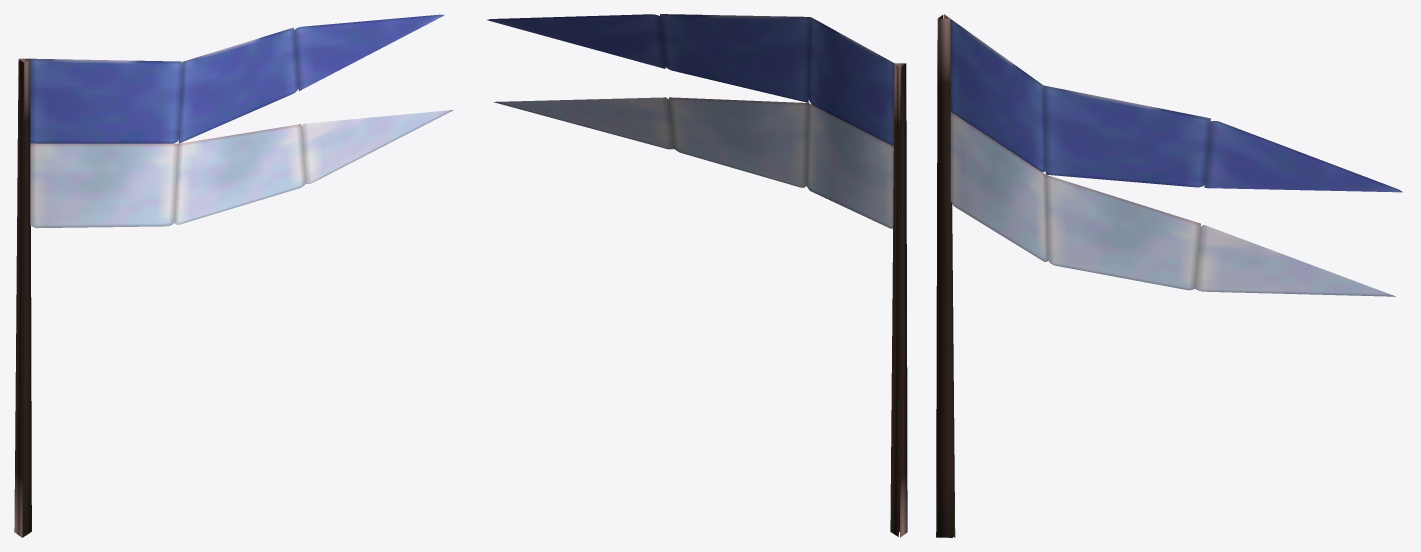
The picture shows the model from 3 angles, left to right: view 1: azimuth 30°, elevation 25°; view 2: azimuth 150°, elevation 25°; view 3: azimuth 330°, elevation 25°; orthographic projection. The views are drawn at different scales.
Visible parts, largest first — view 1: T1L9M003_24; view 2: T1L9M003_24; view 3: T1L9M003_24.
Boxes of the visible parts, bbox=[...] form: T1L9M003_24: bbox=[14, 14, 453, 537]; T1L9M003_24: bbox=[487, 14, 907, 537]; T1L9M003_24: bbox=[936, 14, 1402, 537].
Size of the model in its own units: 1.73 by 1.83 by 0.2752.
